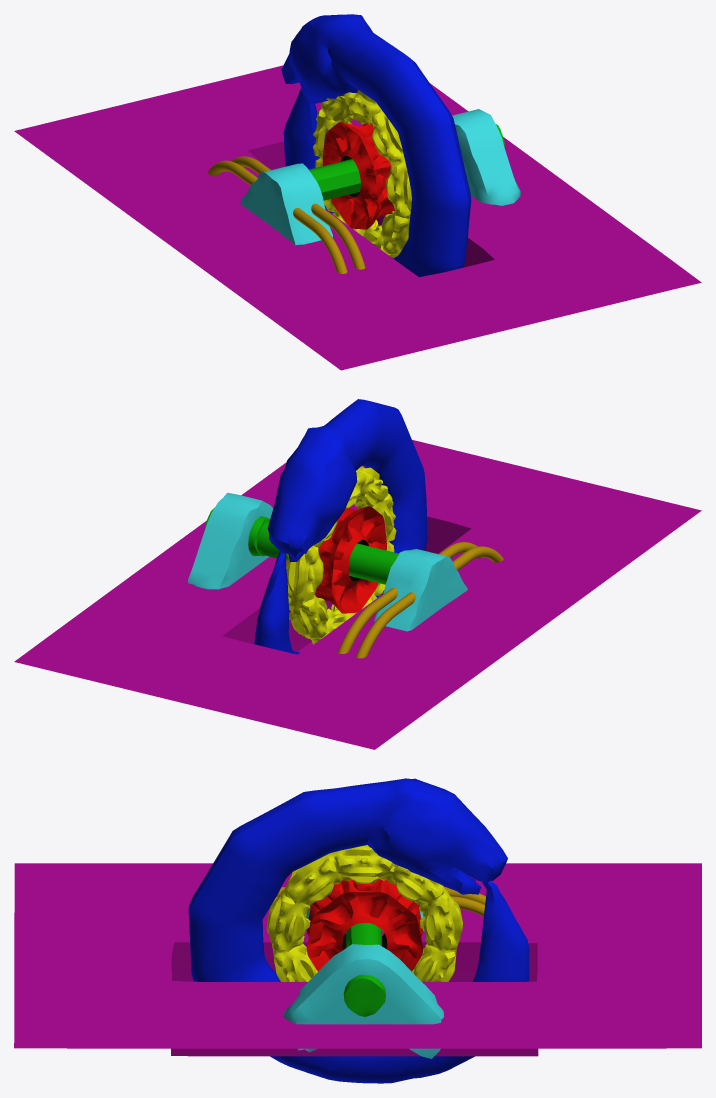
File: lowgen.fbx
The picture shows the model from 3 angles, top to bottom: view 1: azimuth 30°, elevation 25°; view 2: azimuth 150°, elevation 25°; view 3: azimuth 270°, elevation 25°; orthographic projection. The views are drawn at different scales.
Parts seen in each view (by area): view 1: low; view 2: low; view 3: low.
Boxes of the visible parts, bbox=[...] form: low: bbox=[14, 14, 701, 370]; low: bbox=[14, 399, 701, 749]; low: bbox=[14, 778, 701, 1083].
Size of the model in its own units: 928 by 696 by 1457.
